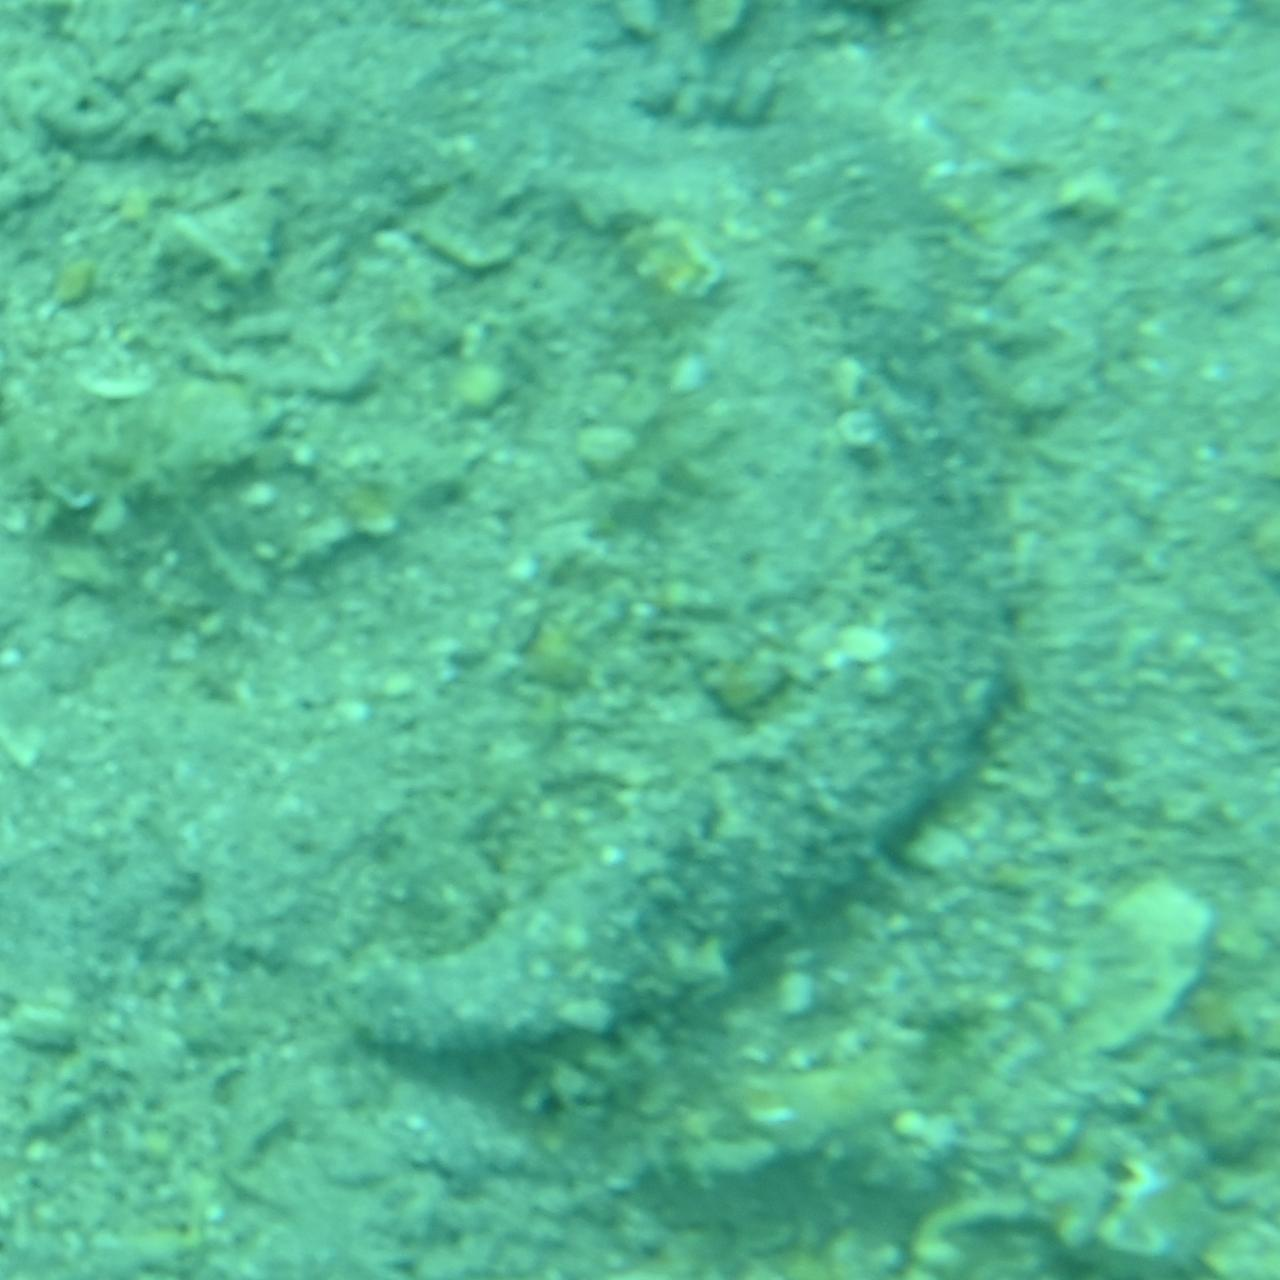Holothuria tubulosa: (222, 205, 1058, 1075)
